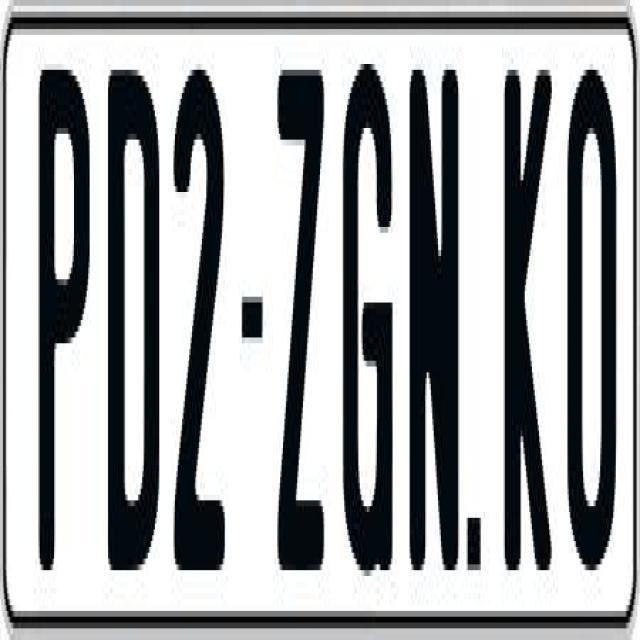0: (563, 58, 613, 582)
2: (170, 58, 223, 564)
D: (108, 70, 164, 606)
G: (340, 64, 390, 605)
K: (502, 52, 555, 553)
N: (410, 64, 458, 582)
P: (40, 58, 92, 570)
Z: (272, 58, 322, 576)
